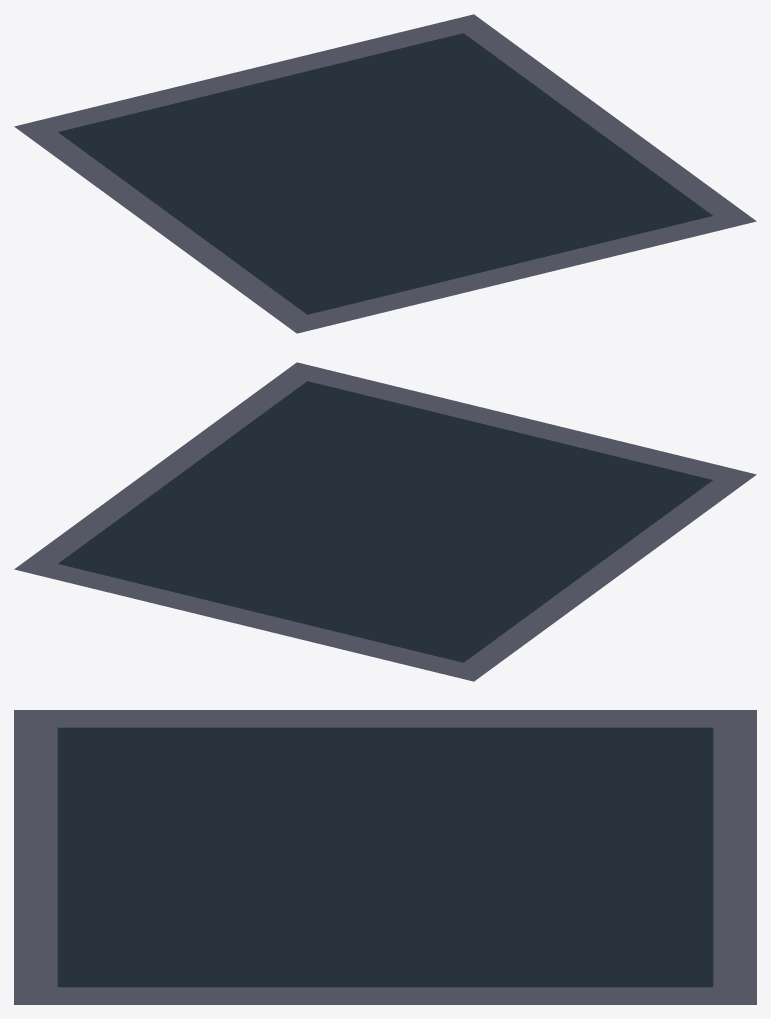
3 views of the same model, one above another, from view 1: azimuth 30°, elevation 25°; view 2: azimuth 150°, elevation 25°; view 3: azimuth 270°, elevation 25° (orthographic). The views are drawn at different scales.
Visible parts, largest first — view 1: Plane001; view 2: Plane001; view 3: Plane001.
Part boxes in pixels (box(x1,y1,x2,y2)): Plane001: box(14, 14, 756, 333); Plane001: box(14, 362, 756, 681); Plane001: box(14, 710, 756, 1004).
Bounding box in the file's own units: 13.47 × 8.79e-16 × 14.35.
